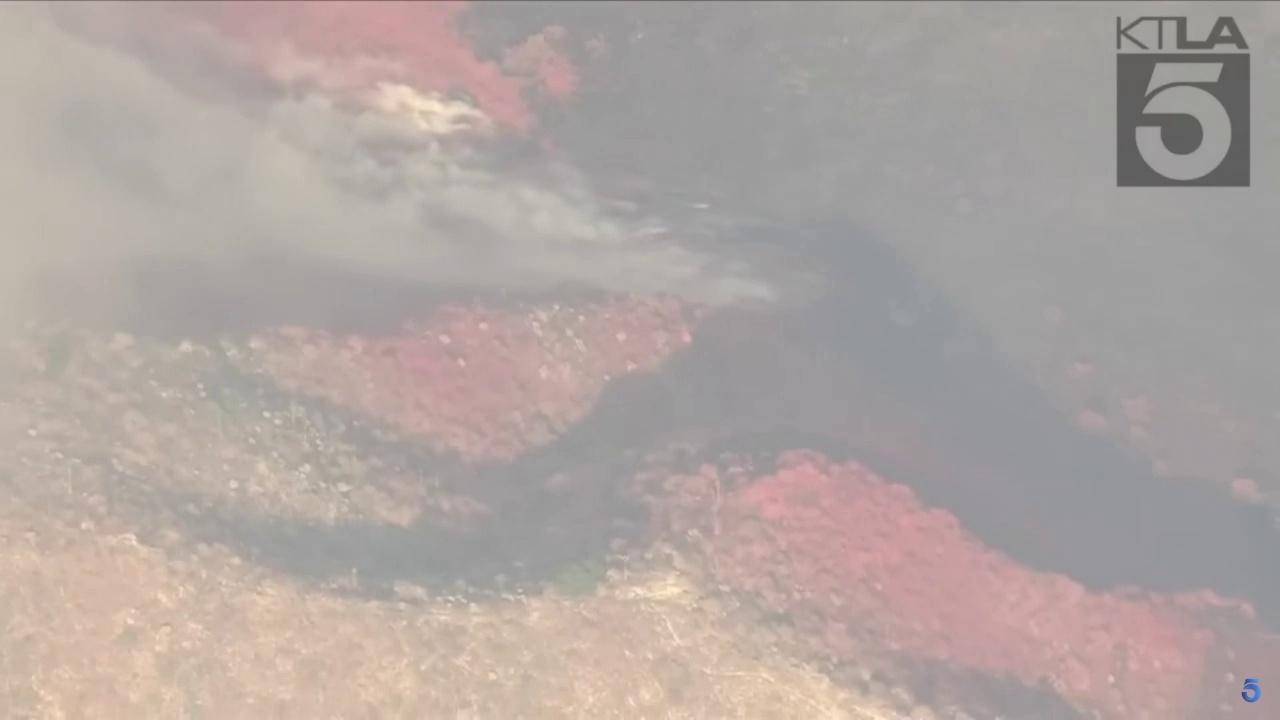smoke: (0, 0, 772, 331)
